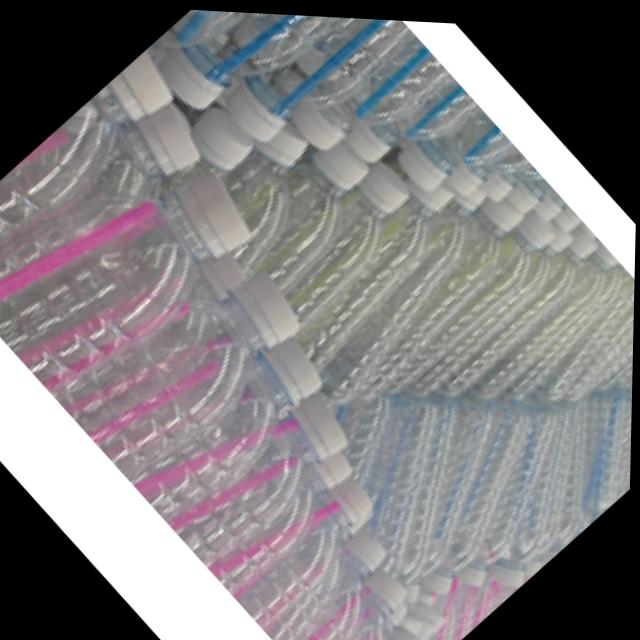plastic_water_bottles: (0, 122, 284, 411), (103, 220, 358, 476), (0, 33, 189, 257)
